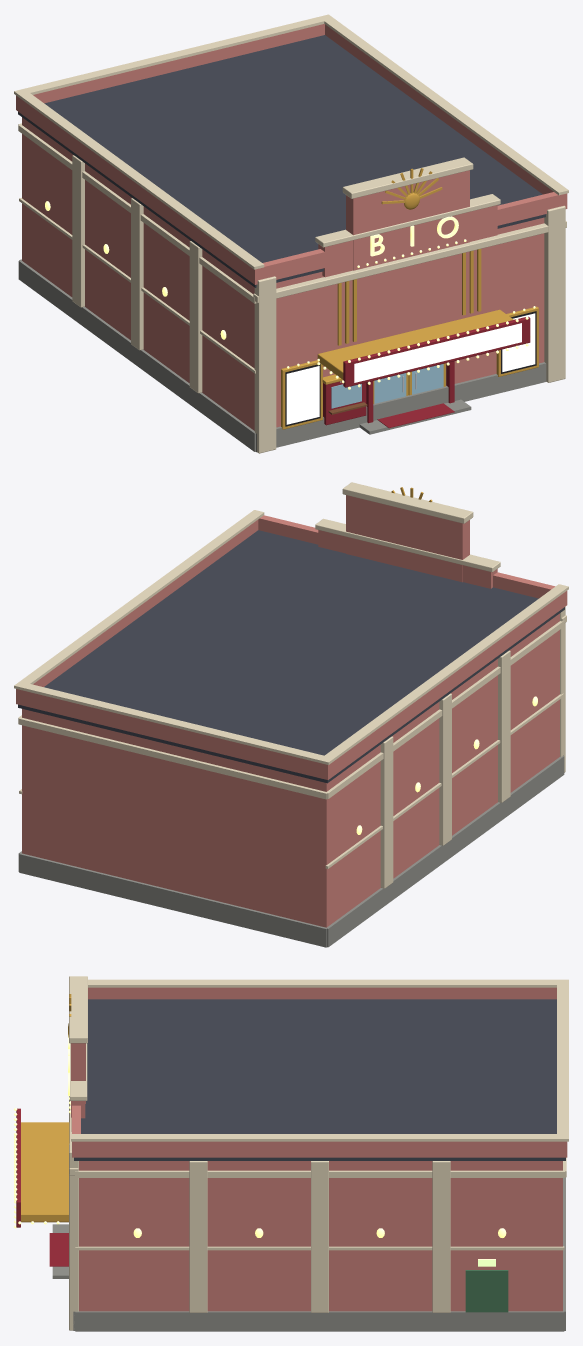
Rendered from cinema.glb.
The picture shows the model from 3 angles, top to bottom: view 1: azimuth 30°, elevation 25°; view 2: azimuth 150°, elevation 25°; view 3: azimuth 270°, elevation 25°; orthographic projection. The views are drawn at different scales.
Parts seen in each view (by area): view 1: Cinema_Roof, side_wall_-1, front_right, front_tower, front_left, front_over_door, side_wall_plinth, front_plinth, front_pilaster, front_pilaster.001, parapet_s, parapet_b (+27 smaller); view 2: Cinema_Roof, back_wall, side_wall_-1, front_tower, back_plinth, side_wall_plinth, parapet_b, parapet_s, parapet_cap.001, parapet_cap.002, parapet_cap, back_band (+12 smaller); view 3: Cinema_Roof, side_wall_1, side_wall_plinth.001, parapet_s.001, parapet_s, canopy, parapet_cap.001, parapet_cap.002, side_wall_band.002, side_wall_pilaster.003, side_wall_pilaster.005, side_wall_pilaster.004 (+11 smaller).
Part boxes in pixels (x1,y1,x2,y2): Cinema_Roof: (18, 35, 545, 287); side_wall_-1: (22, 118, 254, 430); front_right: (446, 217, 544, 385); front_tower: (346, 170, 469, 270); front_left: (252, 272, 370, 430); front_over_door: (370, 257, 446, 340); side_wall_plinth: (18, 260, 255, 451); front_plinth: (256, 362, 546, 452); front_pilaster: (254, 276, 276, 453); front_pilaster.001: (544, 205, 565, 382); parapet_s: (20, 99, 254, 283); parapet_b: (16, 24, 324, 112); Cinema_Roof: (18, 530, 564, 783); back_wall: (22, 709, 330, 927); side_wall_-1: (320, 613, 559, 926); front_tower: (346, 495, 469, 582); back_plinth: (19, 853, 327, 947); side_wall_plinth: (327, 756, 564, 947); parapet_b: (16, 689, 332, 779); parapet_s: (322, 594, 562, 779); parapet_cap.001: (319, 584, 568, 764); parapet_cap.002: (19, 510, 264, 688); parapet_cap: (14, 681, 334, 764); back_band: (18, 717, 327, 799); Cinema_Roof: (74, 999, 565, 1160); side_wall_1: (79, 1161, 562, 1311); side_wall_plinth.001: (75, 1311, 564, 1331); parapet_s.001: (72, 1141, 566, 1157); parapet_s: (88, 987, 556, 999); canopy: (21, 1122, 69, 1222); parapet_cap.001: (88, 979, 568, 987); parapet_cap.002: (71, 1134, 568, 1141); side_wall_band.002: (75, 1170, 564, 1177); side_wall_pilaster.003: (189, 1161, 207, 1312); side_wall_pilaster.005: (432, 1161, 450, 1312); side_wall_pilaster.004: (311, 1161, 328, 1312).
Bounding box in the file's own units: 12.44 × 9.3 × 18.28.
